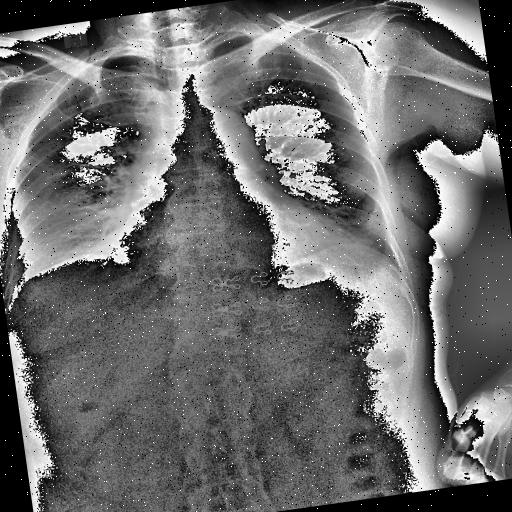0- Aortic enlargement: (166, 100, 264, 182), (180, 102, 260, 180), (184, 108, 264, 174)
3- Cardiomegaly: (94, 200, 348, 296), (108, 180, 332, 278), (109, 198, 345, 272)
